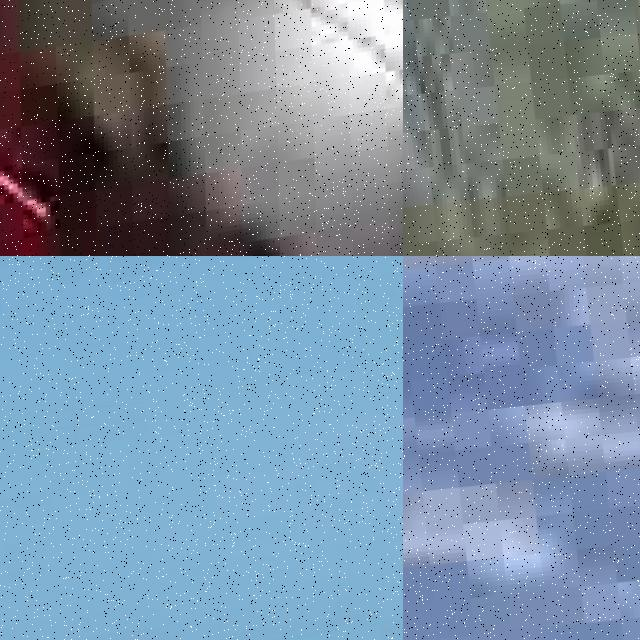drone: (0, 0, 403, 256), (0, 504, 403, 640)
